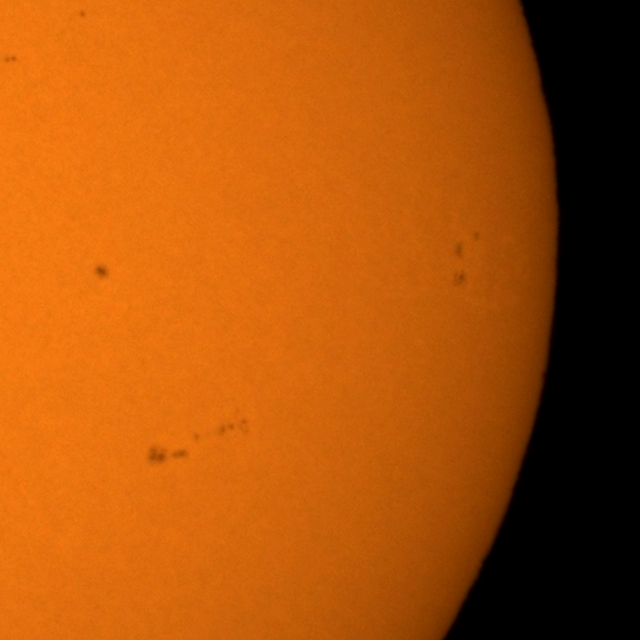sunspot: (147, 443, 192, 468), (454, 231, 480, 262), (216, 417, 251, 439), (92, 262, 110, 282), (451, 268, 468, 289), (2, 54, 19, 65), (78, 9, 88, 20)
